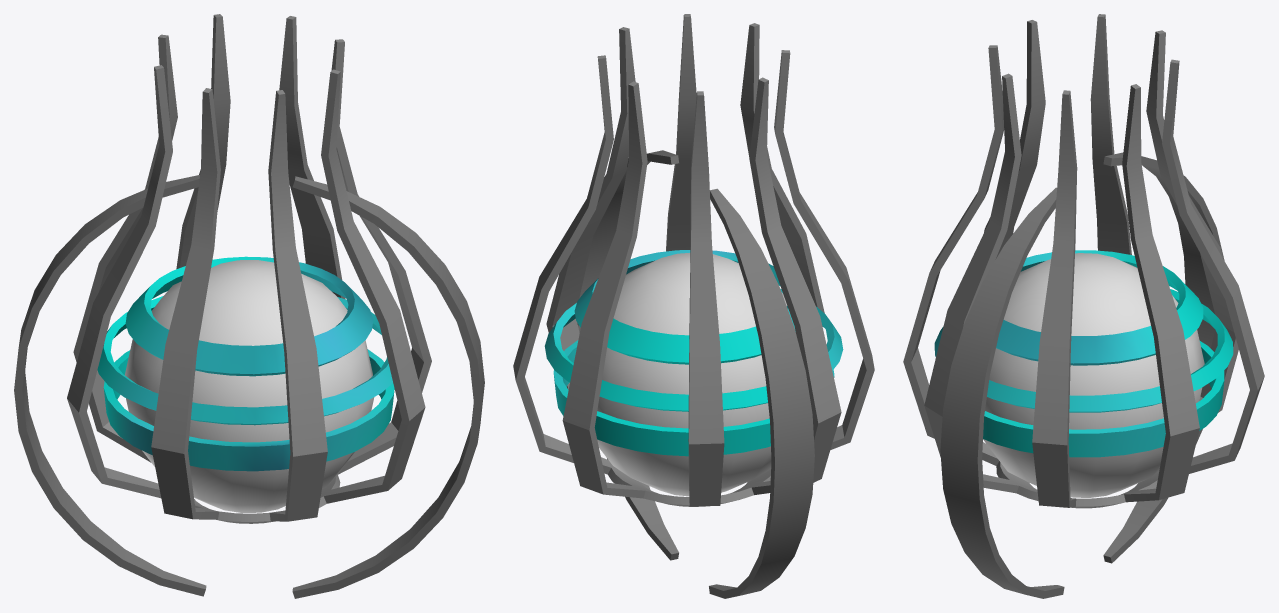
Rendered from Alien_Pulsor.fbx.
The picture shows the model from 3 angles, left to right: view 1: azimuth 30°, elevation 25°; view 2: azimuth 150°, elevation 25°; view 3: azimuth 270°, elevation 25°; orthographic projection. The views are drawn at different scales.
Parts seen in each view (by area): view 1: Sphere; view 2: Sphere; view 3: Sphere.
Boxes of the visible parts, x1=… form: Sphere: x1=14, y1=14, x2=484, y2=598; Sphere: x1=513, y1=14, x2=874, y2=598; Sphere: x1=903, y1=14, x2=1264, y2=598.
Bounding box in the file's own units: 545 × 783 × 489.
